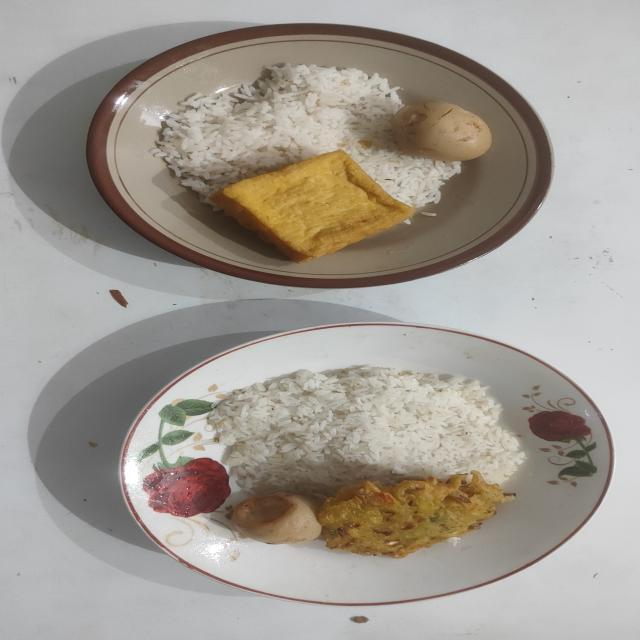nasi_putih: (150, 62, 460, 206), (209, 366, 525, 496)
tahu_goreng: (212, 150, 414, 262)
